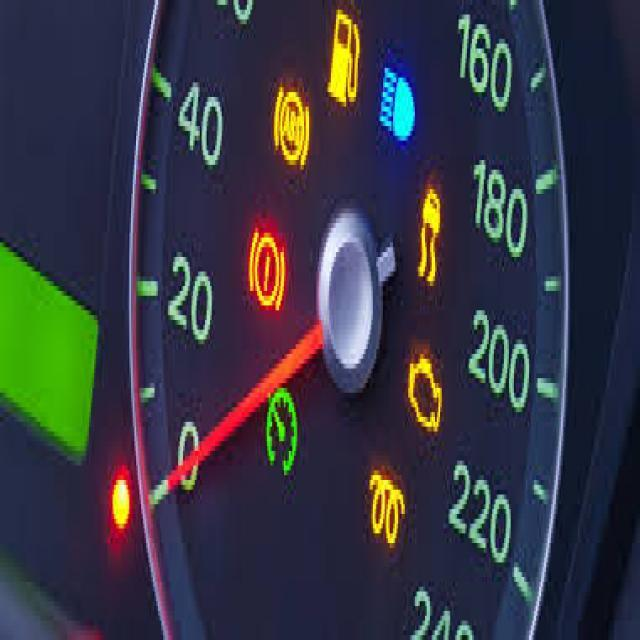ABS: (268, 64, 311, 185)
EngineWarning: (406, 350, 444, 453)
HandBrakeWarning: (246, 214, 286, 324)
LowFuel: (325, 8, 363, 112)
TractionControl: (416, 178, 441, 286)
